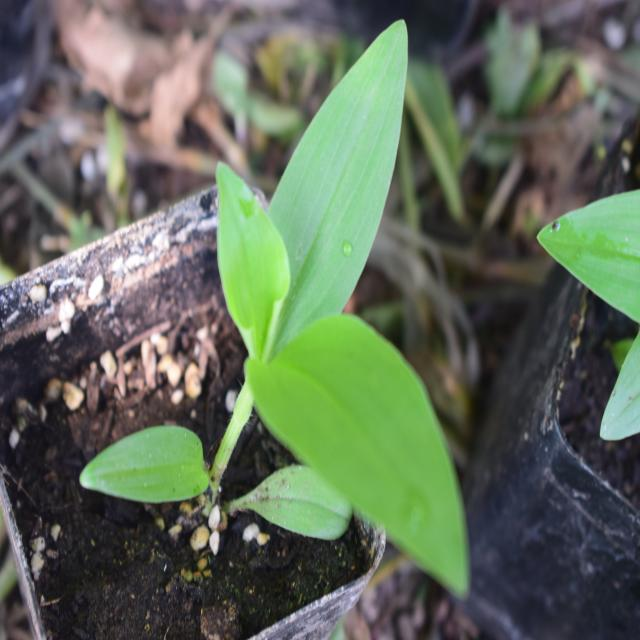Common Dayflower: (165, 21, 467, 580)
